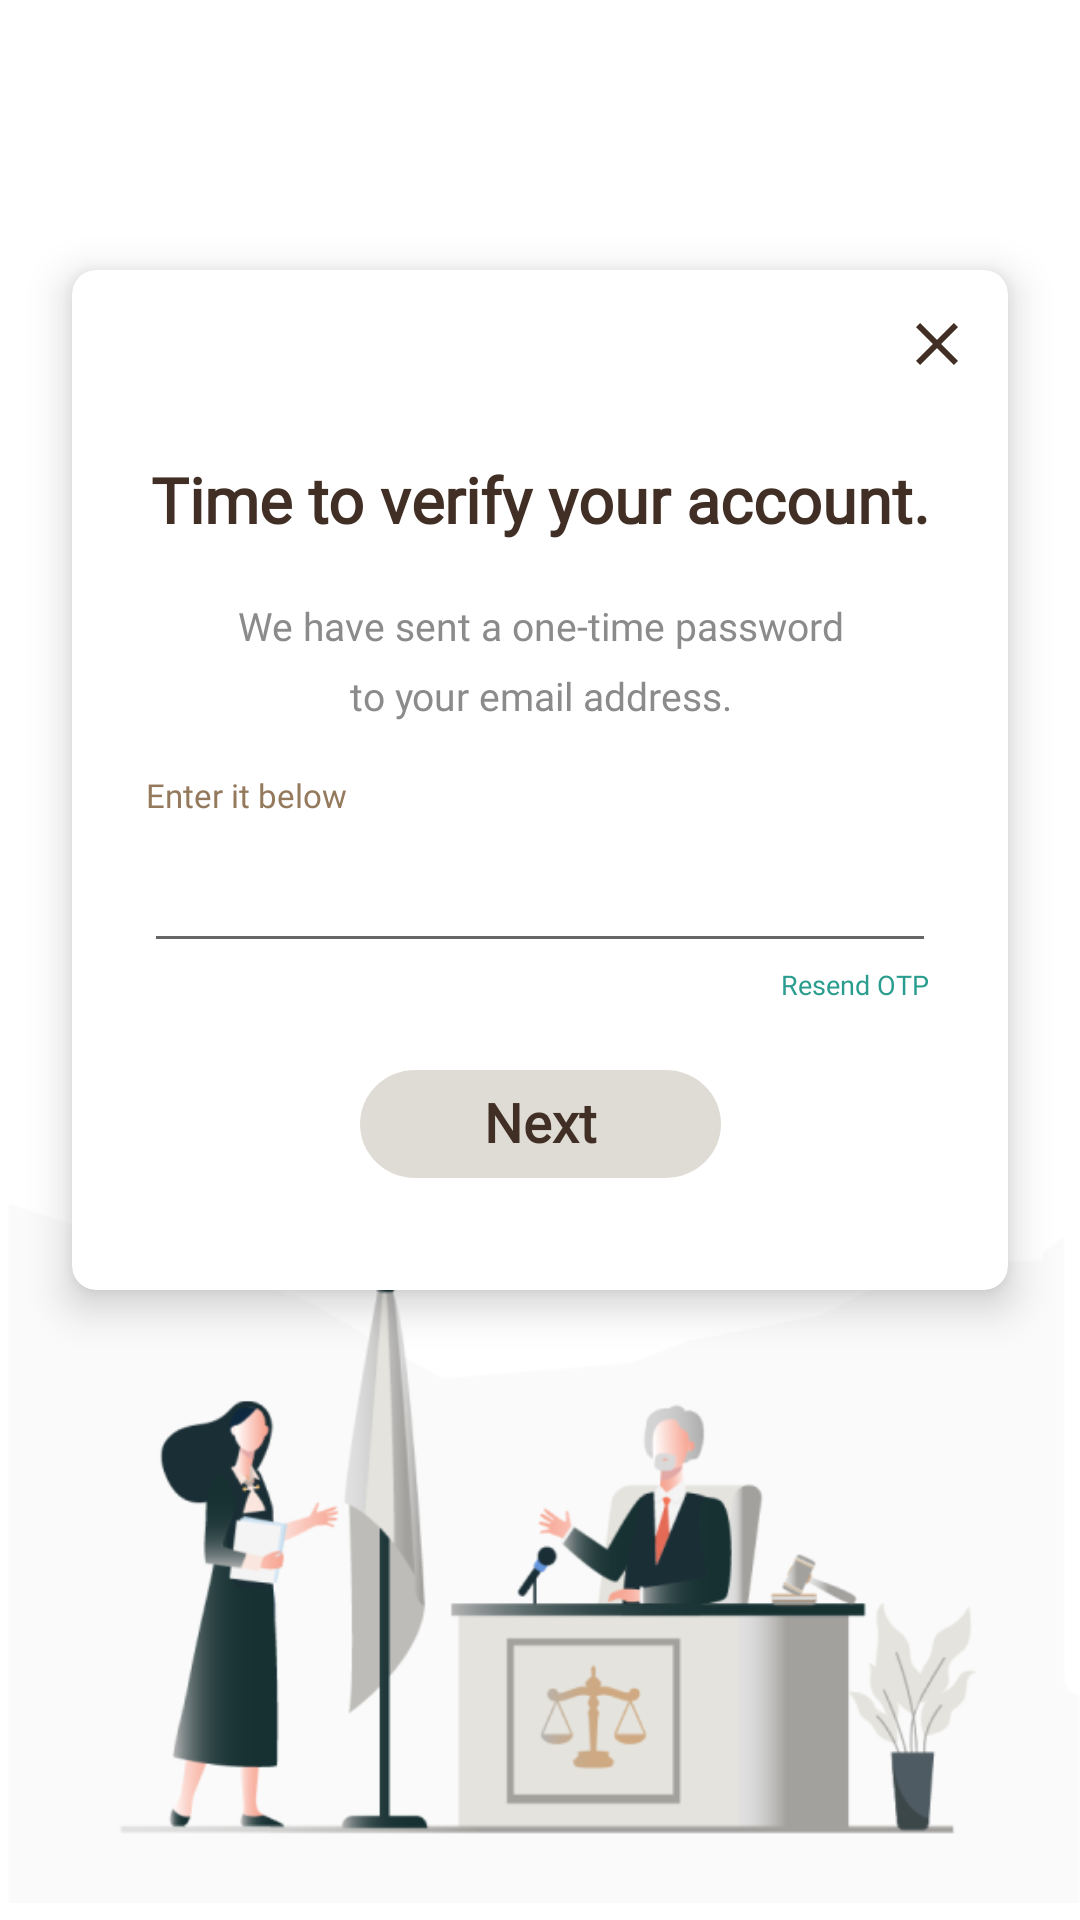

Icon click points for this 1080px×1920px phone screenshot, format point (x, y):
close: point (937, 344)
